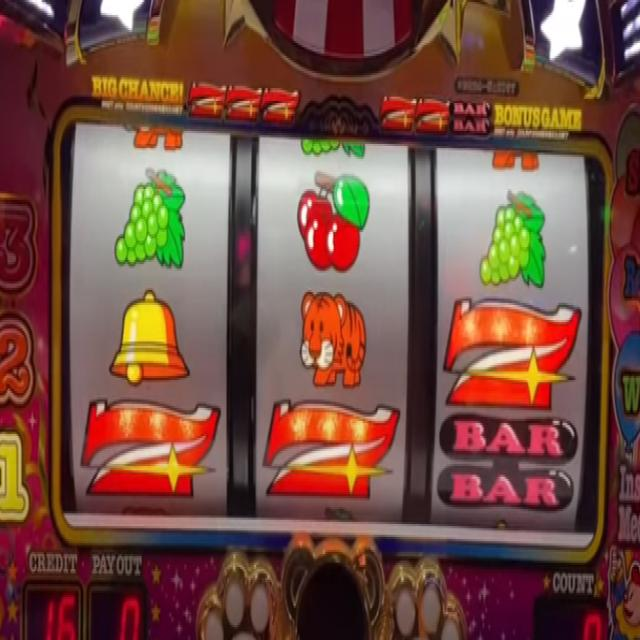bar: (437, 410, 585, 519), (453, 99, 493, 139)
bell: (109, 285, 191, 388)
cherry: (295, 174, 373, 273)
display: (64, 119, 598, 549)
grape: (112, 165, 187, 268), (480, 188, 547, 292)
tiger: (301, 292, 368, 393)
z: (442, 298, 578, 408), (83, 397, 221, 502), (266, 401, 396, 500), (379, 90, 415, 136), (418, 93, 450, 139), (188, 82, 226, 120), (225, 82, 261, 120), (262, 89, 298, 125)
